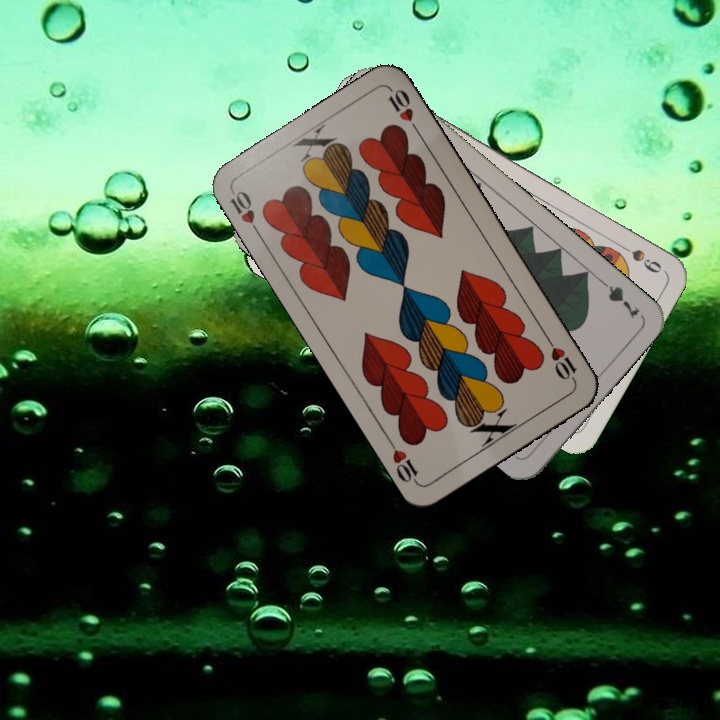G7: (594, 274, 643, 322)
H10: (541, 332, 580, 385), (226, 186, 264, 240)
S9: (611, 238, 665, 276)
